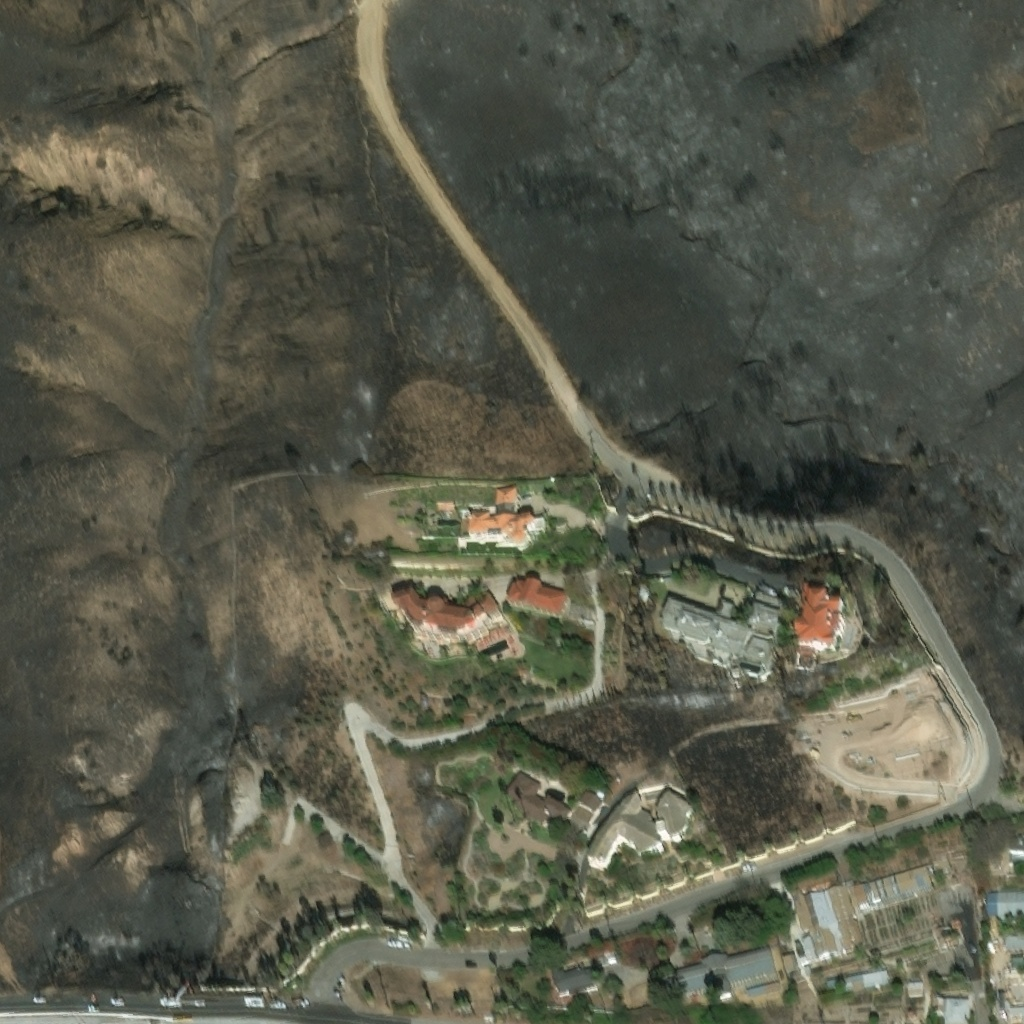0 no-damage: (660, 588, 790, 668), (586, 789, 692, 869), (658, 940, 779, 1000), (503, 767, 603, 832), (468, 482, 546, 550), (848, 856, 938, 911), (393, 587, 499, 633), (792, 580, 844, 660), (789, 883, 840, 958), (823, 878, 866, 952), (506, 575, 568, 616), (821, 965, 890, 992), (551, 960, 601, 992), (986, 886, 1023, 918), (943, 994, 971, 1023), (798, 931, 817, 963), (1008, 829, 1023, 861), (928, 847, 950, 867), (781, 950, 800, 973), (1003, 930, 1023, 951), (513, 662, 533, 678), (744, 980, 765, 995), (436, 496, 455, 510), (636, 584, 652, 600), (1007, 1002, 1023, 1017), (763, 976, 780, 990), (931, 993, 943, 1010), (944, 930, 958, 942), (593, 950, 605, 963), (934, 922, 946, 935), (1009, 954, 1023, 965), (907, 978, 922, 988), (947, 915, 960, 926), (566, 952, 577, 962), (583, 952, 593, 962), (581, 615, 591, 621)
3 destroyed: (255, 724, 265, 744), (246, 728, 255, 743)
